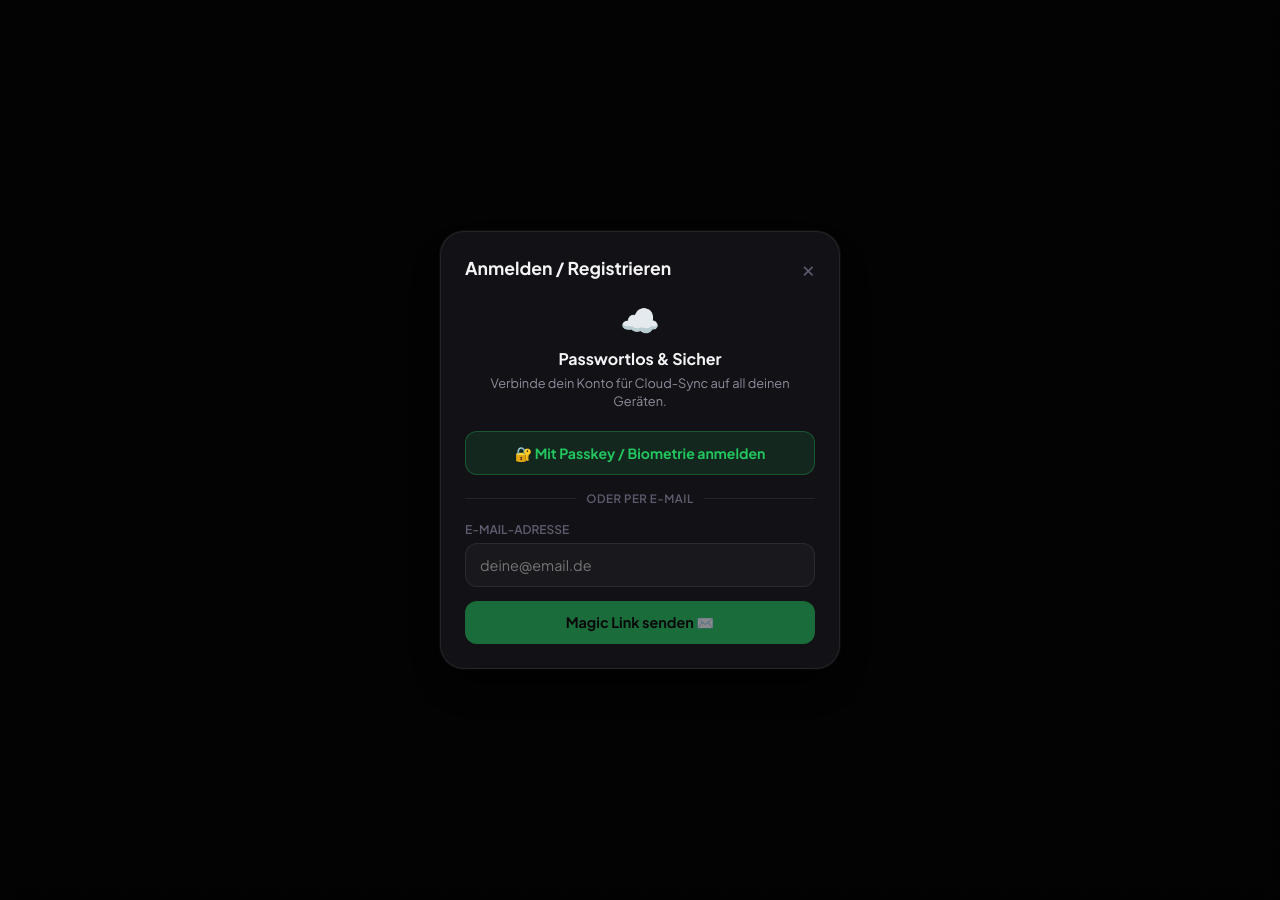
it: AuthModal component › disables request button when email is invalid
Type "invalid-email" into the field labelled "E-Mail-Adresse" at point(640, 565), box [465, 543, 815, 587]
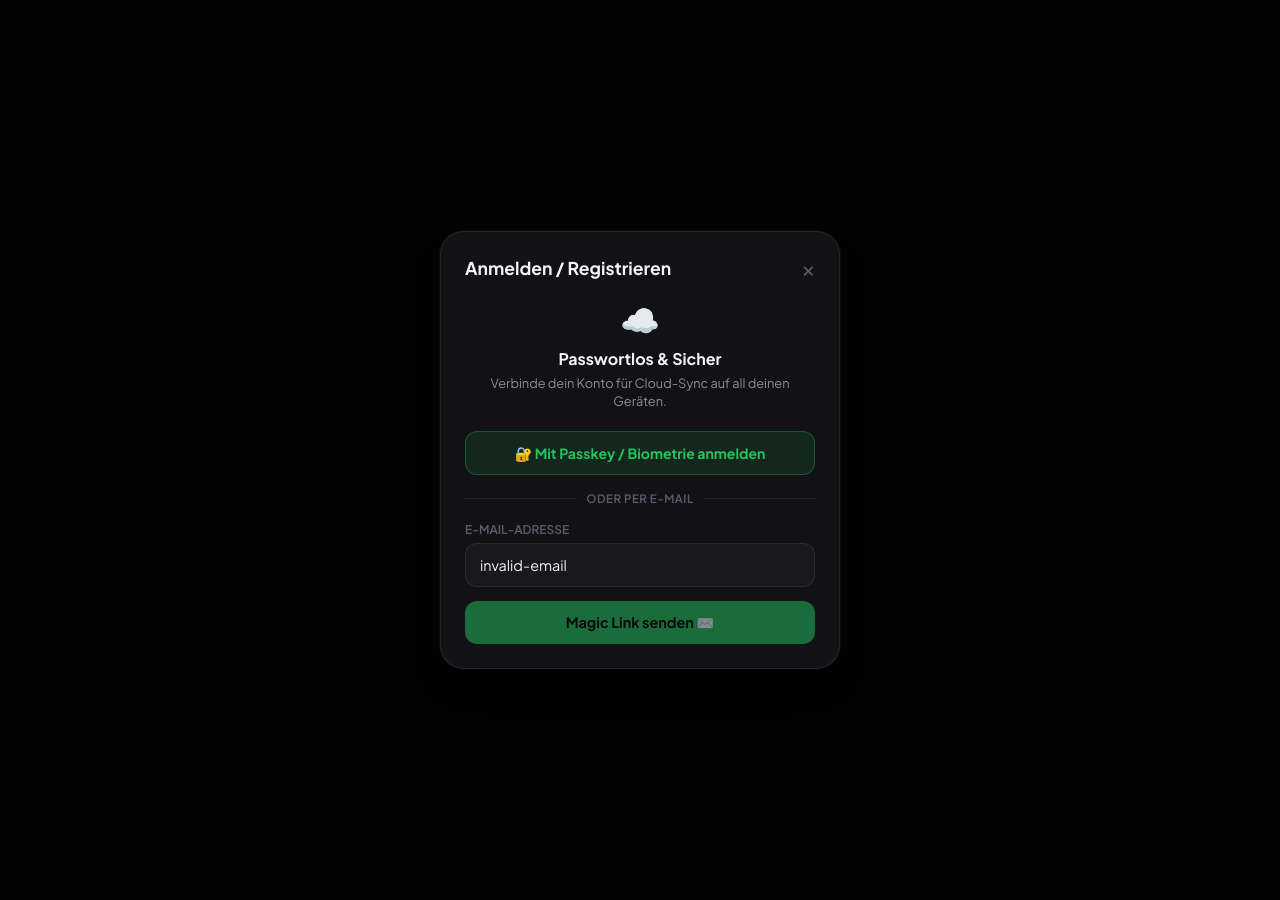
expect the button with class "auth-primary-btn" is disabled: met, box [465, 601, 815, 644]
Replace the text in the field labelled "E-Mail-Adresse" with "valid@example.com" at point(640, 565), box [465, 543, 815, 587]
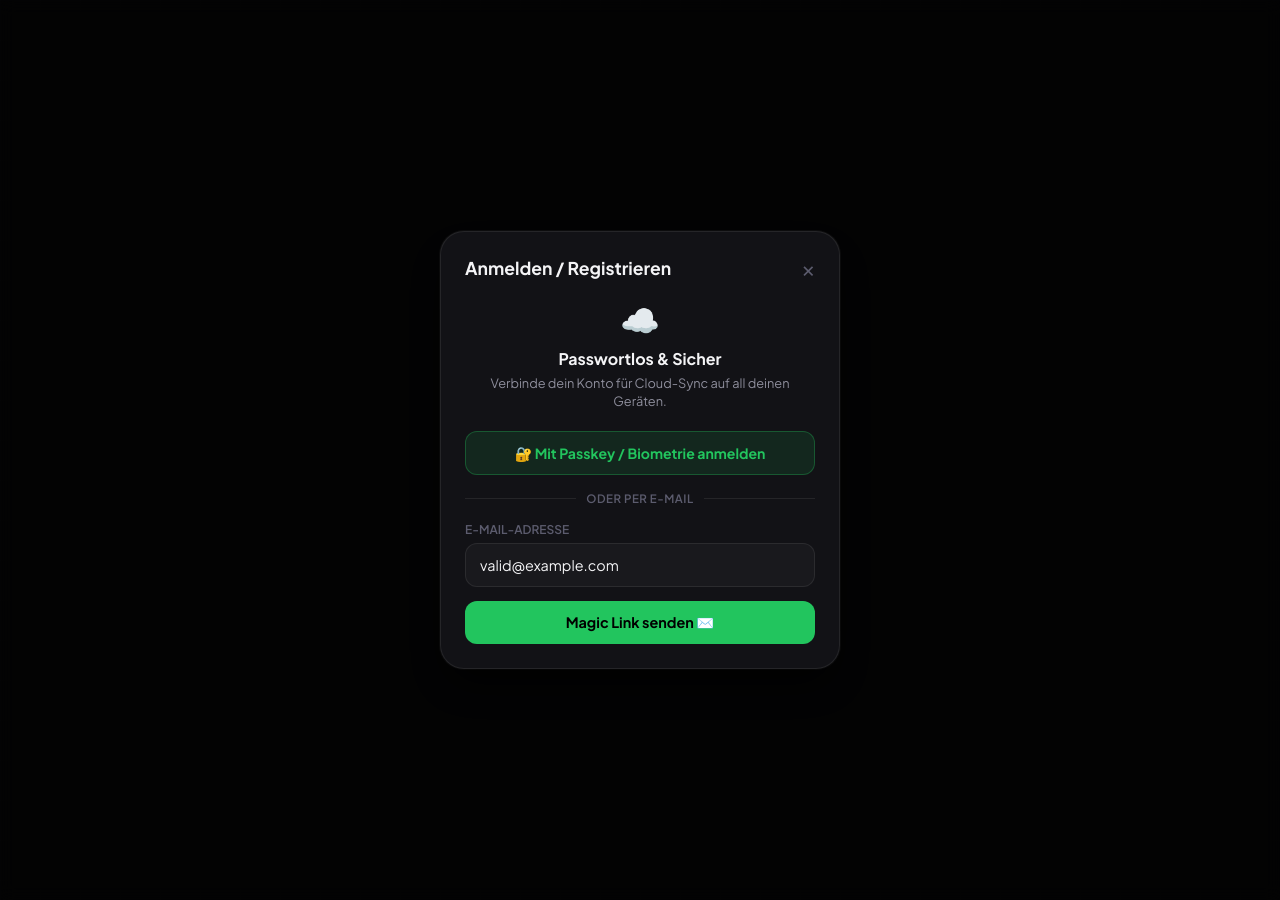
expect the button with class "auth-primary-btn" is enabled: met, box [465, 601, 815, 644]
